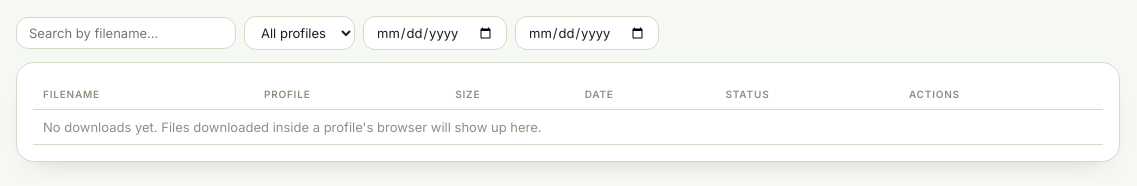
Test: DownloadsPage › shows the "no match" empty state once a filter is applied and 0 rows come back
Expected: the text "No downloads yet. Files downloaded inside a profile's browser will show up here." is shown, 33,110 -> 1103,144
In the field with placeholder "Search by filename...": (126, 33) 16,17 -> 236,49, type "zzz"
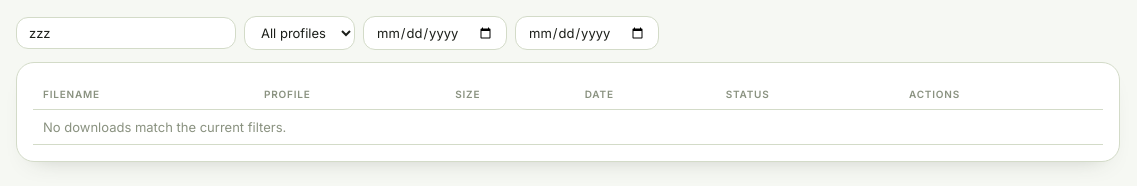
Now the text "No downloads match the current filters." is shown, box 33,110 -> 1103,144
